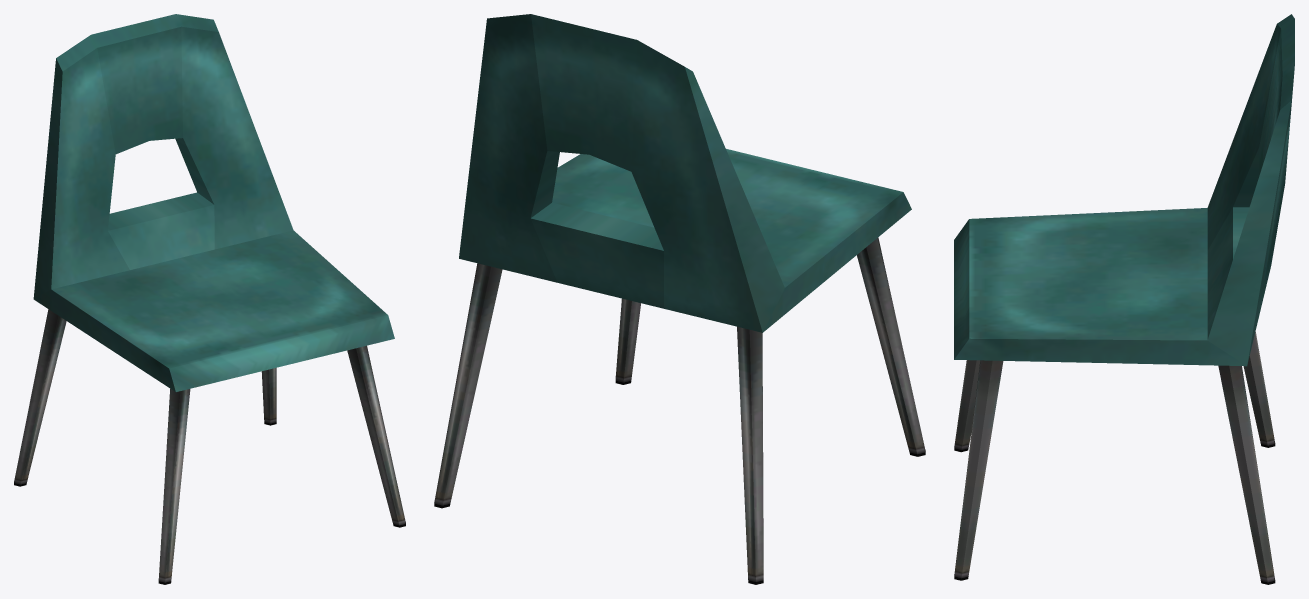
Rendered from chr_classroom.fbx.
The picture shows the model from 3 angles, left to right: view 1: azimuth 30°, elevation 25°; view 2: azimuth 150°, elevation 25°; view 3: azimuth 270°, elevation 25°; orthographic projection. The views are drawn at different scales.
Visible parts, largest first — view 1: mesh_0; view 2: mesh_0; view 3: mesh_0.
Part boxes in pixels (left/top/right/bottom): mesh_0: left=14, top=14, right=405, bottom=584; mesh_0: left=434, top=14, right=925, bottom=584; mesh_0: left=954, top=14, right=1294, bottom=584.
Size of the model in its own units: 62 by 94.73 by 62.12.
Materials: 1 (1 with a texture image).
